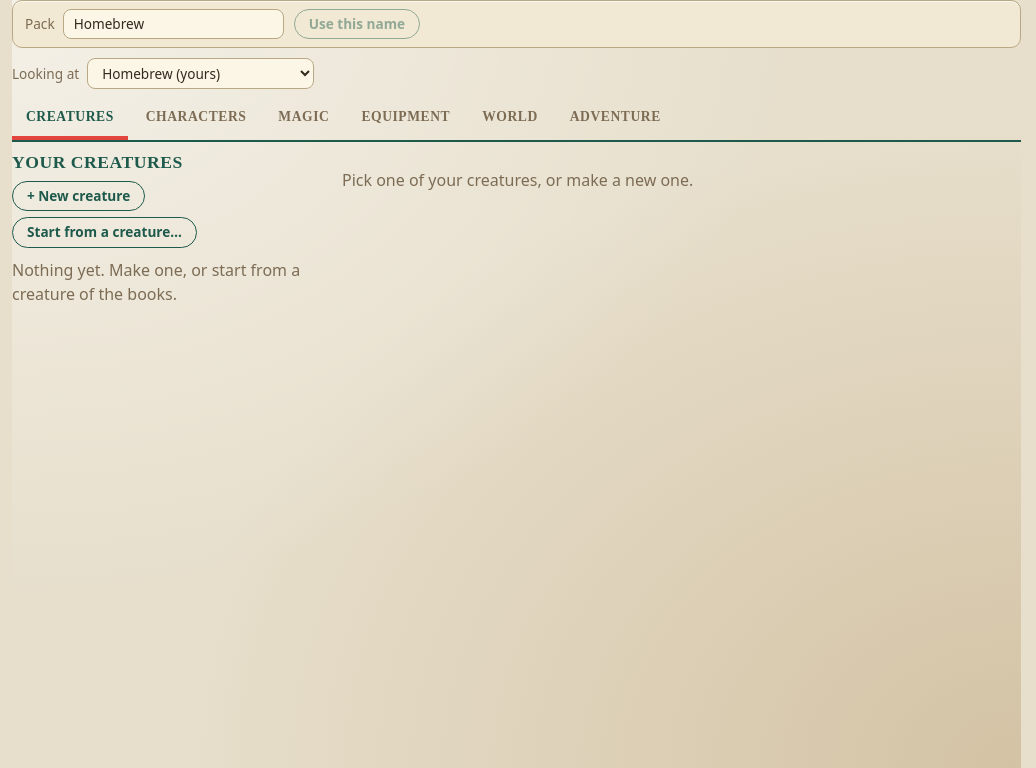
Test case: HomebrewView › names the pack: Homebrew by default, changed with one button
The image size is (1036, 768).
Expected: the button with test id "pack-save" is disabled, x1=294 y1=9 x2=420 y2=39
Replace the text in the field with test id "pack-name" with "Frozen North": (173, 24) x1=63 y1=9 x2=284 y2=39
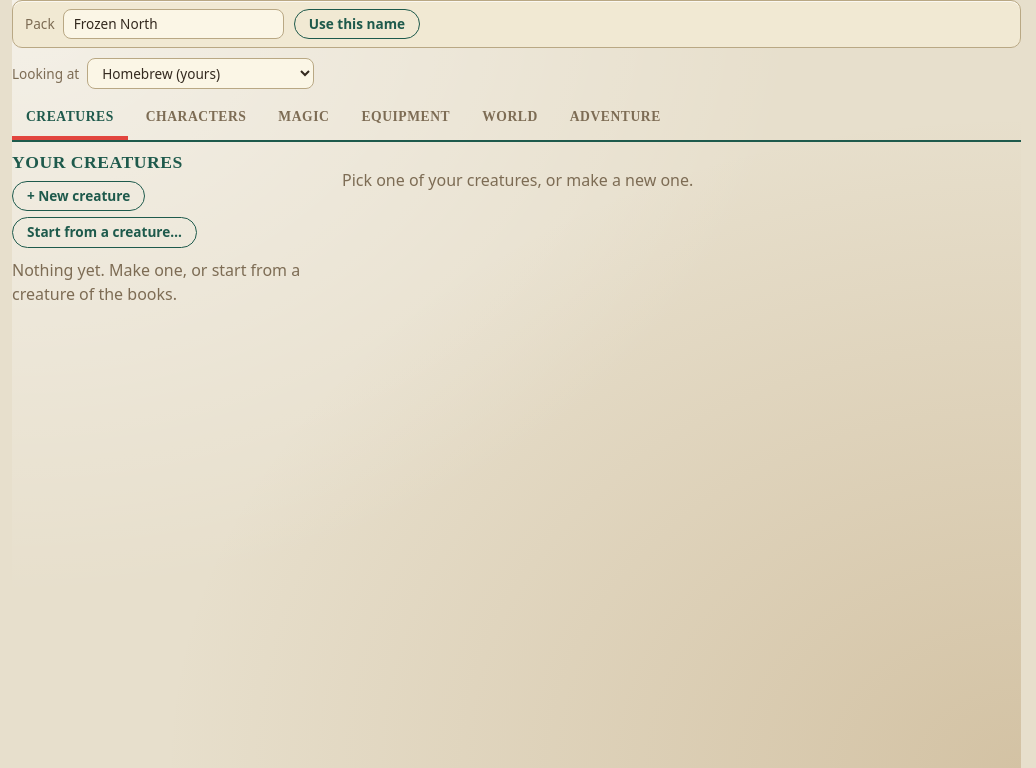
Submit the form with test id "pack-form", box x1=12 y1=0 x2=1021 y2=48
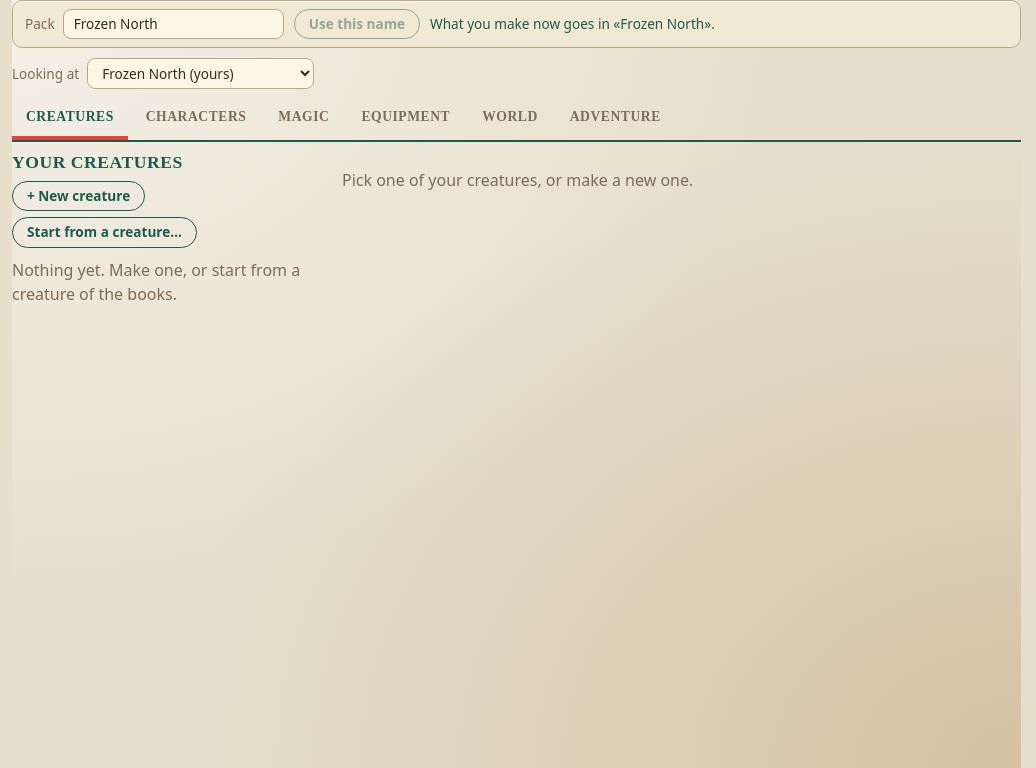
Now the text with test id "pack-status" shows "Frozen North", box x1=430 y1=14 x2=715 y2=33
